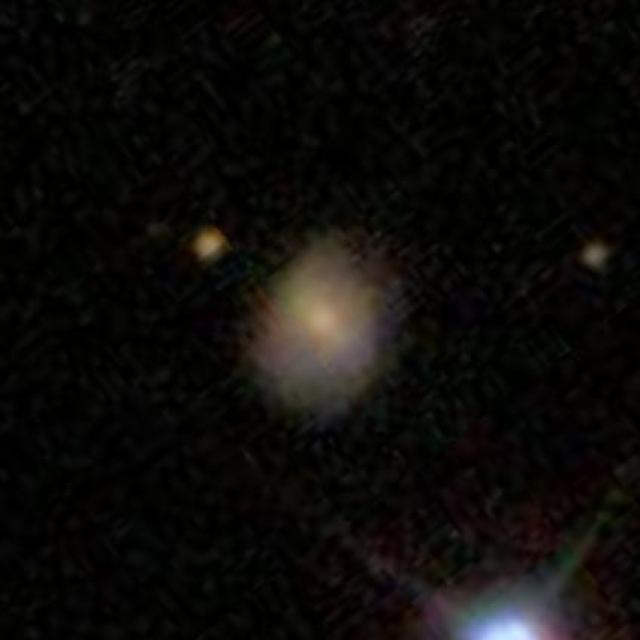galaxy: (243, 226, 405, 433), (183, 223, 237, 271), (575, 235, 614, 277)
star: (315, 464, 636, 640)
